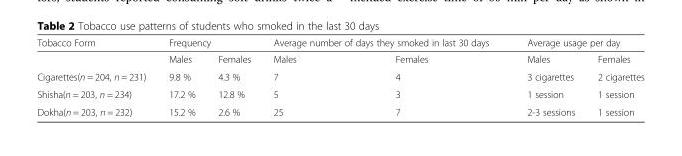table: (36, 36, 643, 117)
table column: (345, 36, 507, 117), (36, 36, 156, 117), (261, 36, 345, 117), (507, 36, 585, 117), (585, 36, 643, 117), (206, 36, 261, 117), (156, 36, 206, 117)
table column header: (36, 36, 643, 67)
table row: (36, 67, 643, 85), (36, 50, 643, 67), (36, 85, 643, 102), (36, 102, 643, 117), (36, 36, 643, 50)
table spanning cell: (36, 36, 156, 67), (261, 36, 507, 50), (507, 36, 643, 50), (156, 36, 261, 50)
